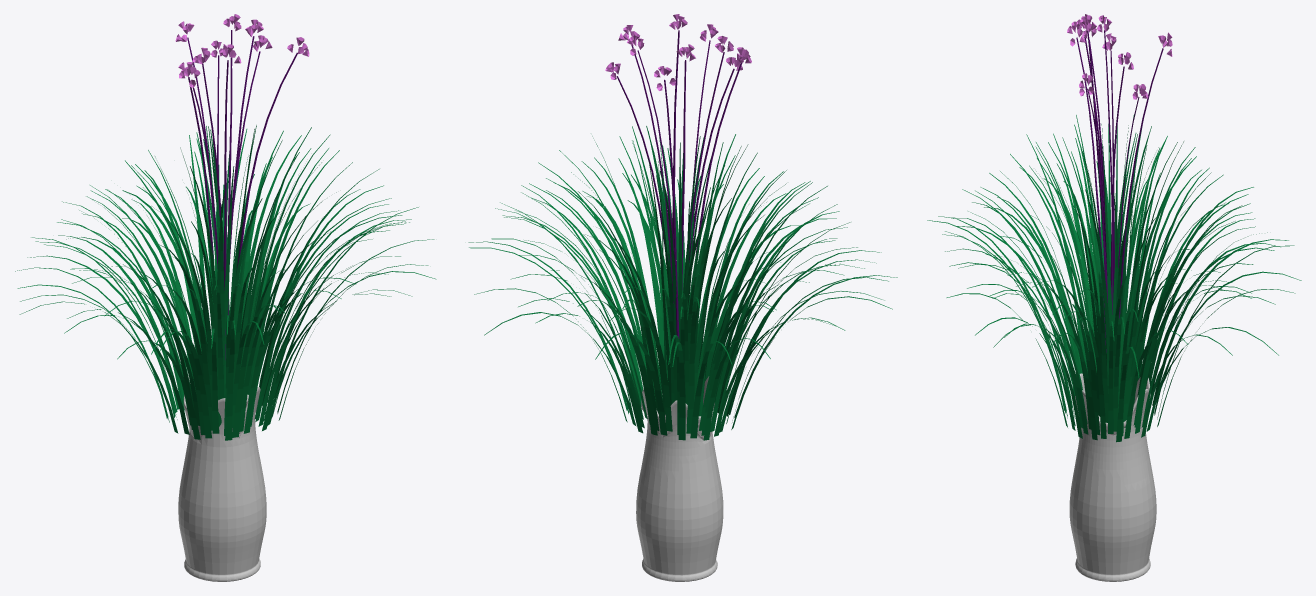
Rendered from flower1.obj.
3 renders of one model, left to right at view 1: azimuth 30°, elevation 25°; view 2: azimuth 150°, elevation 25°; view 3: azimuth 270°, elevation 25°, orthographic.
Visible parts, largest first — view 1: Foliage03, Line01; view 2: Foliage03, Line01; view 3: Foliage03, Line01.
Boxes of the visible parts, bbox=[...] form: Foliage03: bbox=[15, 14, 436, 440]; Line01: bbox=[178, 375, 266, 581]; Foliage03: bbox=[468, 14, 897, 440]; Line01: bbox=[636, 376, 723, 581]; Foliage03: bbox=[927, 14, 1301, 442]; Line01: bbox=[1069, 373, 1156, 581].
Bounding box in the file's own units: 420 × 538 × 330.
